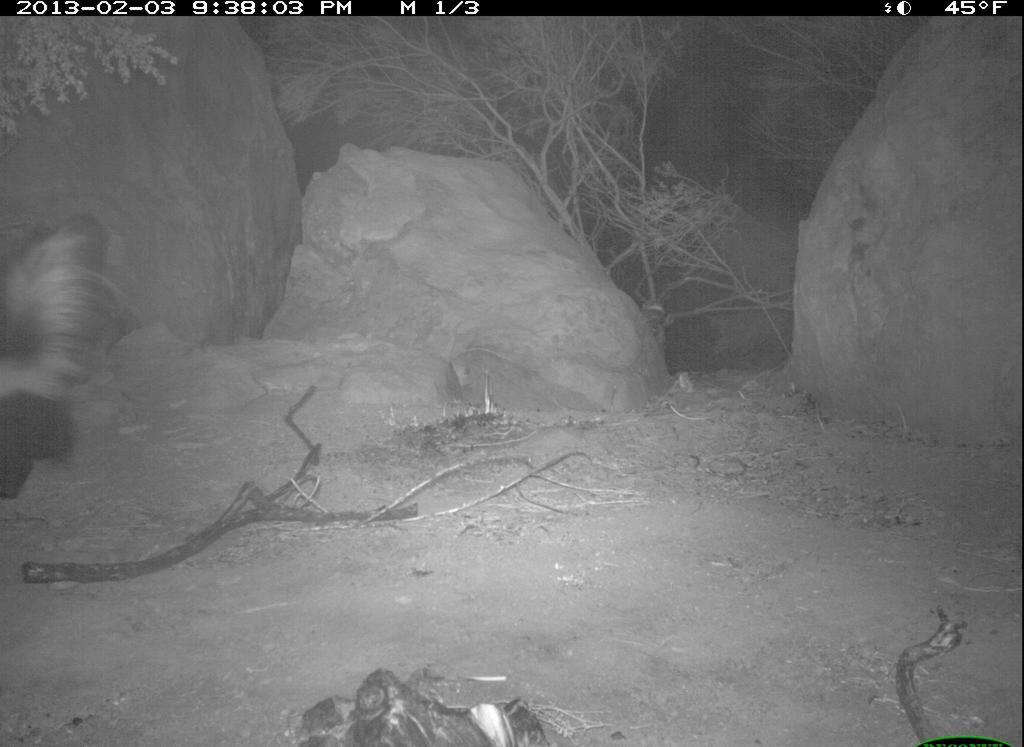skunk: (2, 213, 129, 511)
